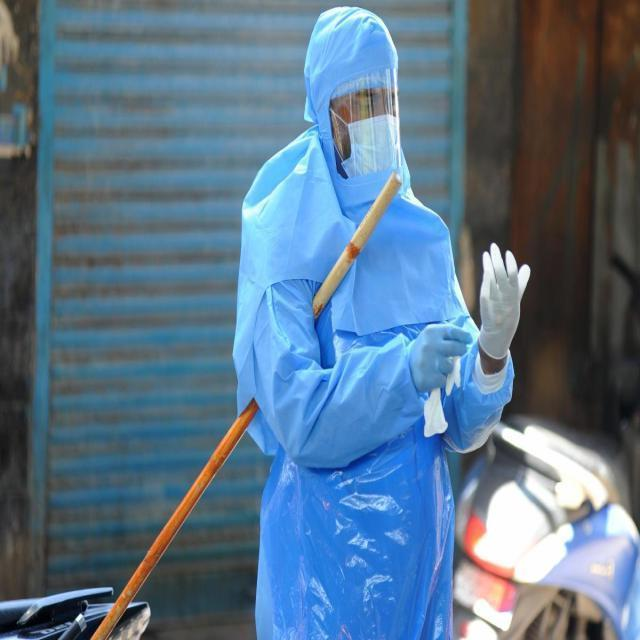gloves: (477, 241, 532, 360), (405, 324, 473, 396)
